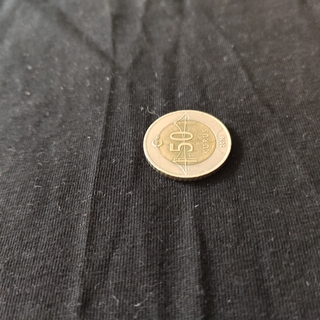50KURUS: (141, 107, 233, 182)
